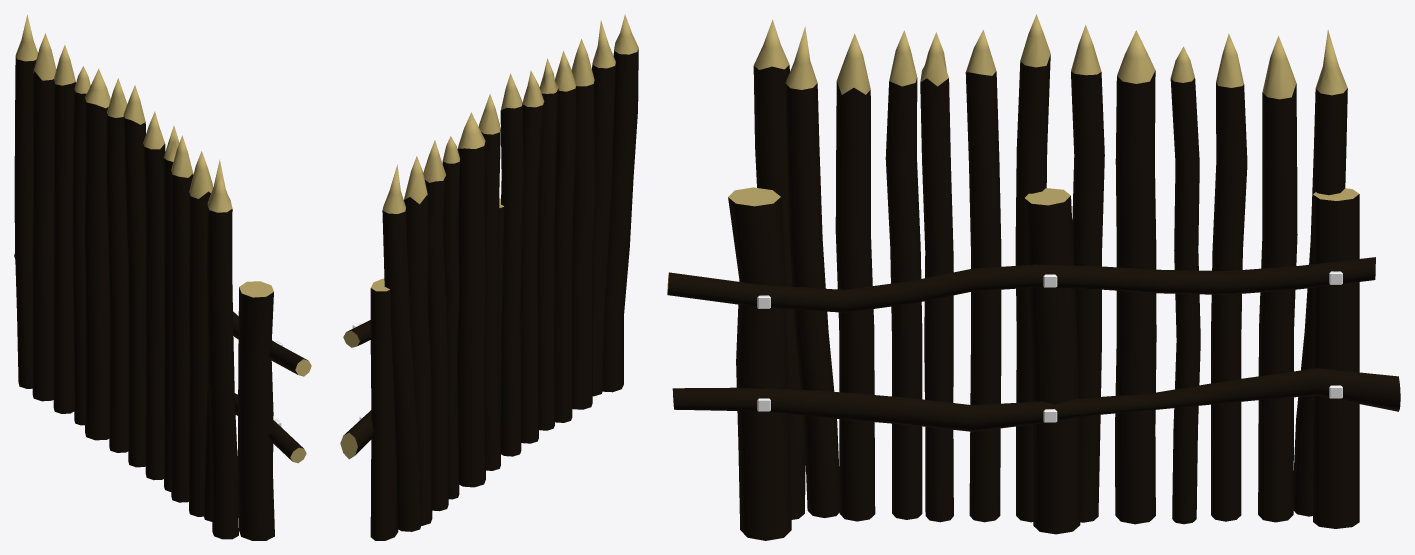
Rendered from fence4.fbx.
The picture shows the model from 3 angles, left to right: view 1: azimuth 30°, elevation 25°; view 2: azimuth 150°, elevation 25°; view 3: azimuth 270°, elevation 25°; orthographic projection. The views are drawn at different scales.
Visible parts, largest first — view 1: fence4_LOD0; view 2: fence4_LOD0; view 3: fence4_LOD0, nails004.
Boxes of the visible parts, <box> form: fence4_LOD0: <box>14,14,311,540</box>; fence4_LOD0: <box>340,14,638,540</box>; fence4_LOD0: <box>667,14,1400,540</box>; nails004: <box>757,271,1342,422</box>.
Size of what is drawn, in the model's own units: 37.87 by 198 by 262.
